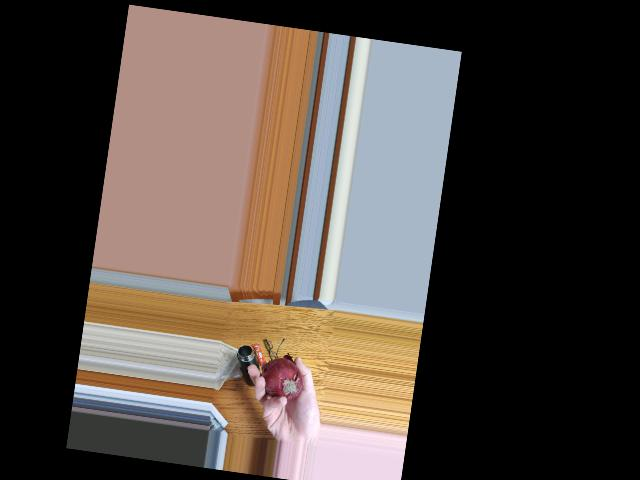onion: (259, 360, 306, 403)
